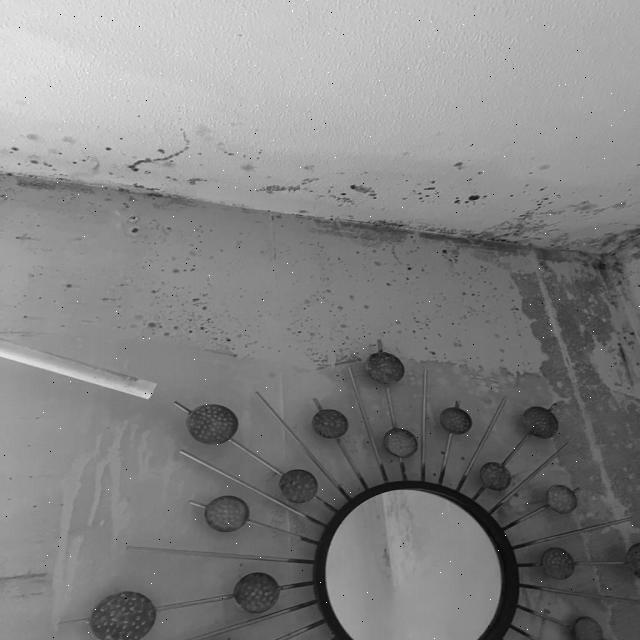stain marks: (8, 109, 640, 640)
